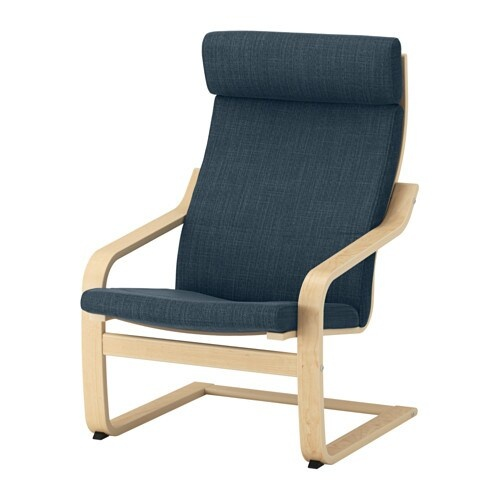obstacle: (81, 31, 417, 467)
